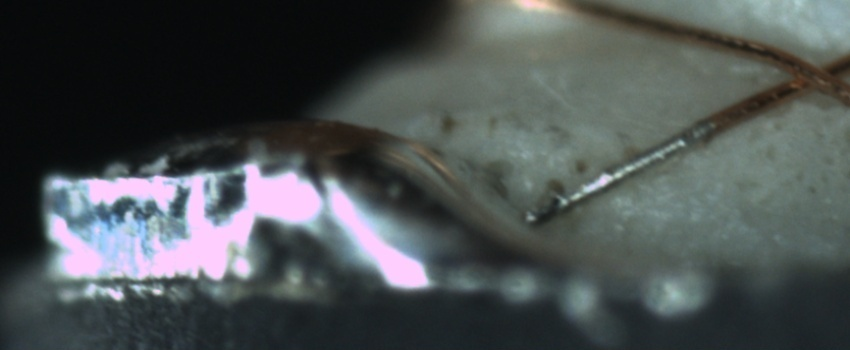CL: (773, 43, 847, 102)
TS: (527, 118, 718, 230)
TTCW: (527, 102, 742, 227)
